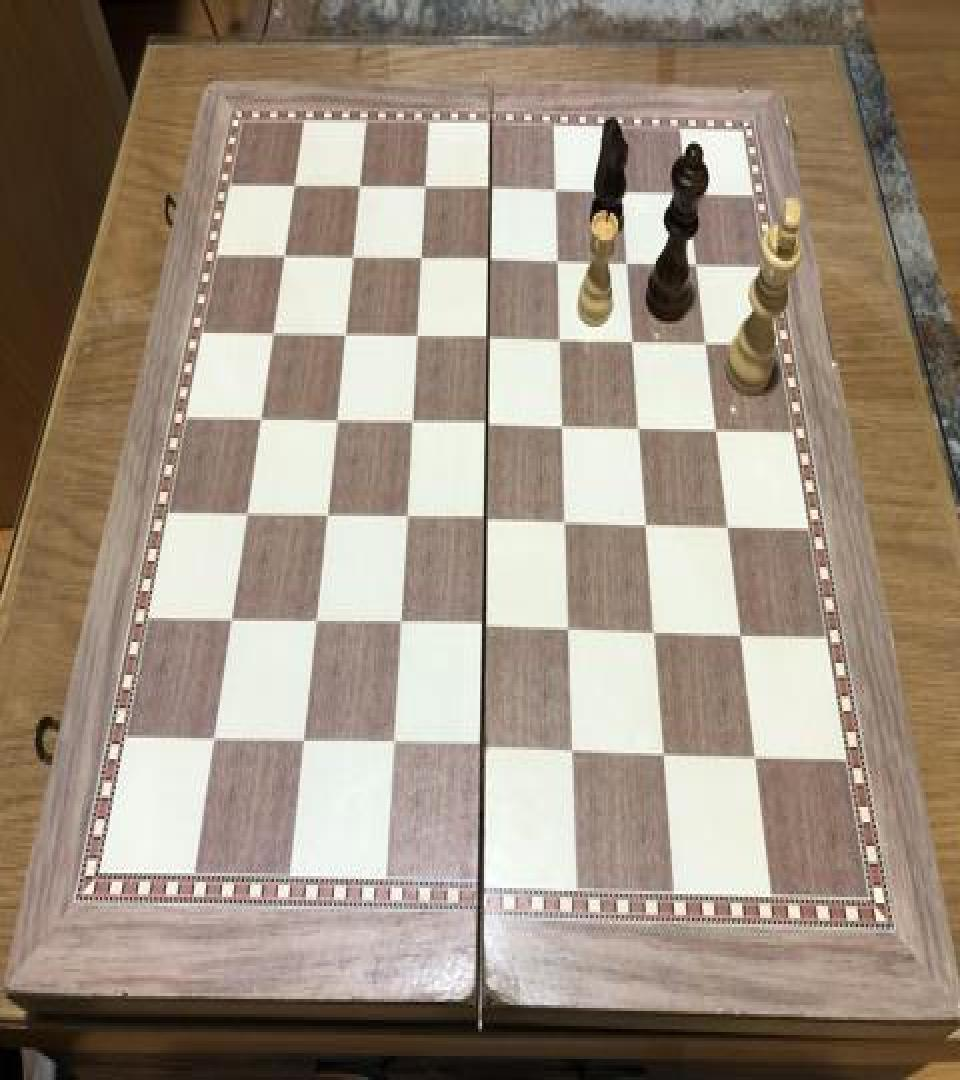xcorner: (557, 610, 581, 647), (610, 171, 634, 207), (544, 171, 568, 207), (479, 171, 503, 207), (414, 170, 438, 206), (349, 170, 373, 206), (284, 170, 308, 206), (684, 243, 708, 279), (615, 243, 639, 279), (546, 242, 570, 278), (478, 242, 502, 278), (410, 242, 434, 278), (342, 240, 366, 276), (274, 240, 298, 276), (693, 322, 717, 358), (621, 321, 645, 357), (549, 321, 573, 357), (477, 320, 501, 356), (405, 320, 429, 356), (334, 318, 358, 354), (263, 318, 287, 354), (704, 410, 728, 446), (627, 408, 651, 444), (551, 406, 575, 442), (476, 406, 500, 442), (400, 405, 424, 441), (325, 404, 349, 440), (250, 404, 274, 440), (715, 506, 739, 542), (635, 504, 659, 540), (554, 504, 578, 540), (474, 502, 498, 538), (395, 501, 419, 537), (315, 500, 339, 536), (237, 498, 261, 534), (728, 615, 752, 651), (643, 614, 667, 650), (473, 609, 497, 645), (388, 608, 412, 644), (305, 606, 329, 642), (221, 604, 245, 640), (743, 736, 767, 772), (652, 735, 676, 771), (561, 732, 585, 768), (471, 730, 495, 766), (381, 729, 405, 765), (292, 726, 316, 762), (204, 724, 228, 760), (676, 173, 700, 208)
